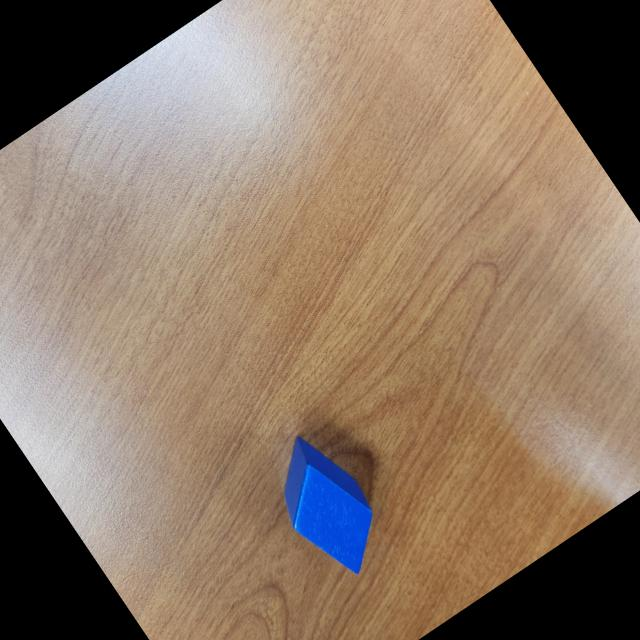blue: (252, 422, 402, 590)
